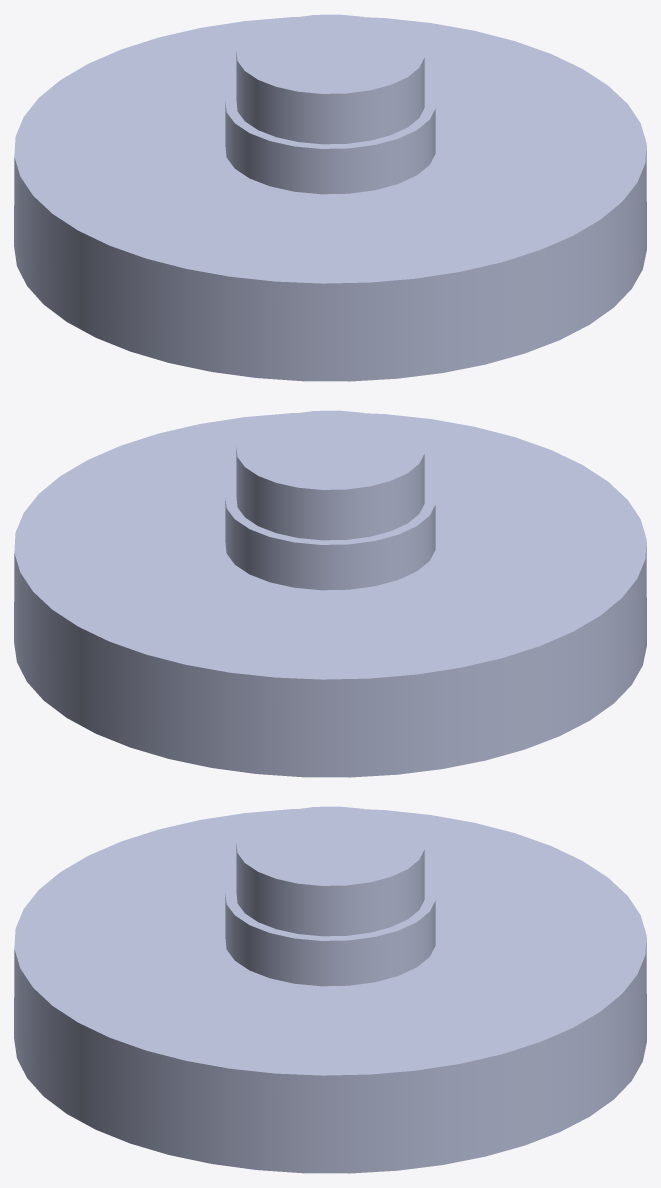
3 views of the same model, one above another, from view 1: azimuth 30°, elevation 25°; view 2: azimuth 150°, elevation 25°; view 3: azimuth 270°, elevation 25° (orthographic).
Visible parts, largest first — view 1: Body1; view 2: Body1; view 3: Body1.
Boxes of the visible parts, <box> form: Body1: <box>14,14,646,381</box>; Body1: <box>14,410,646,777</box>; Body1: <box>14,806,646,1173</box>.
Bounding box in the file's own units: 0.057 × 0.0193 × 0.057.
